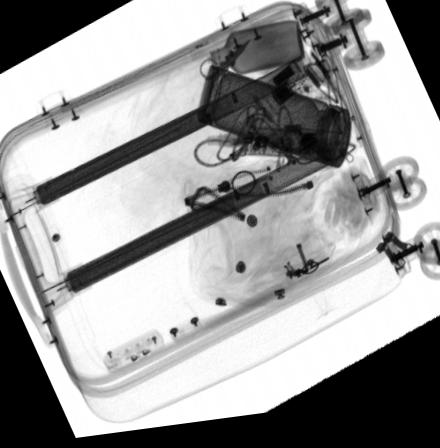Scissors: (198, 44, 251, 103)
